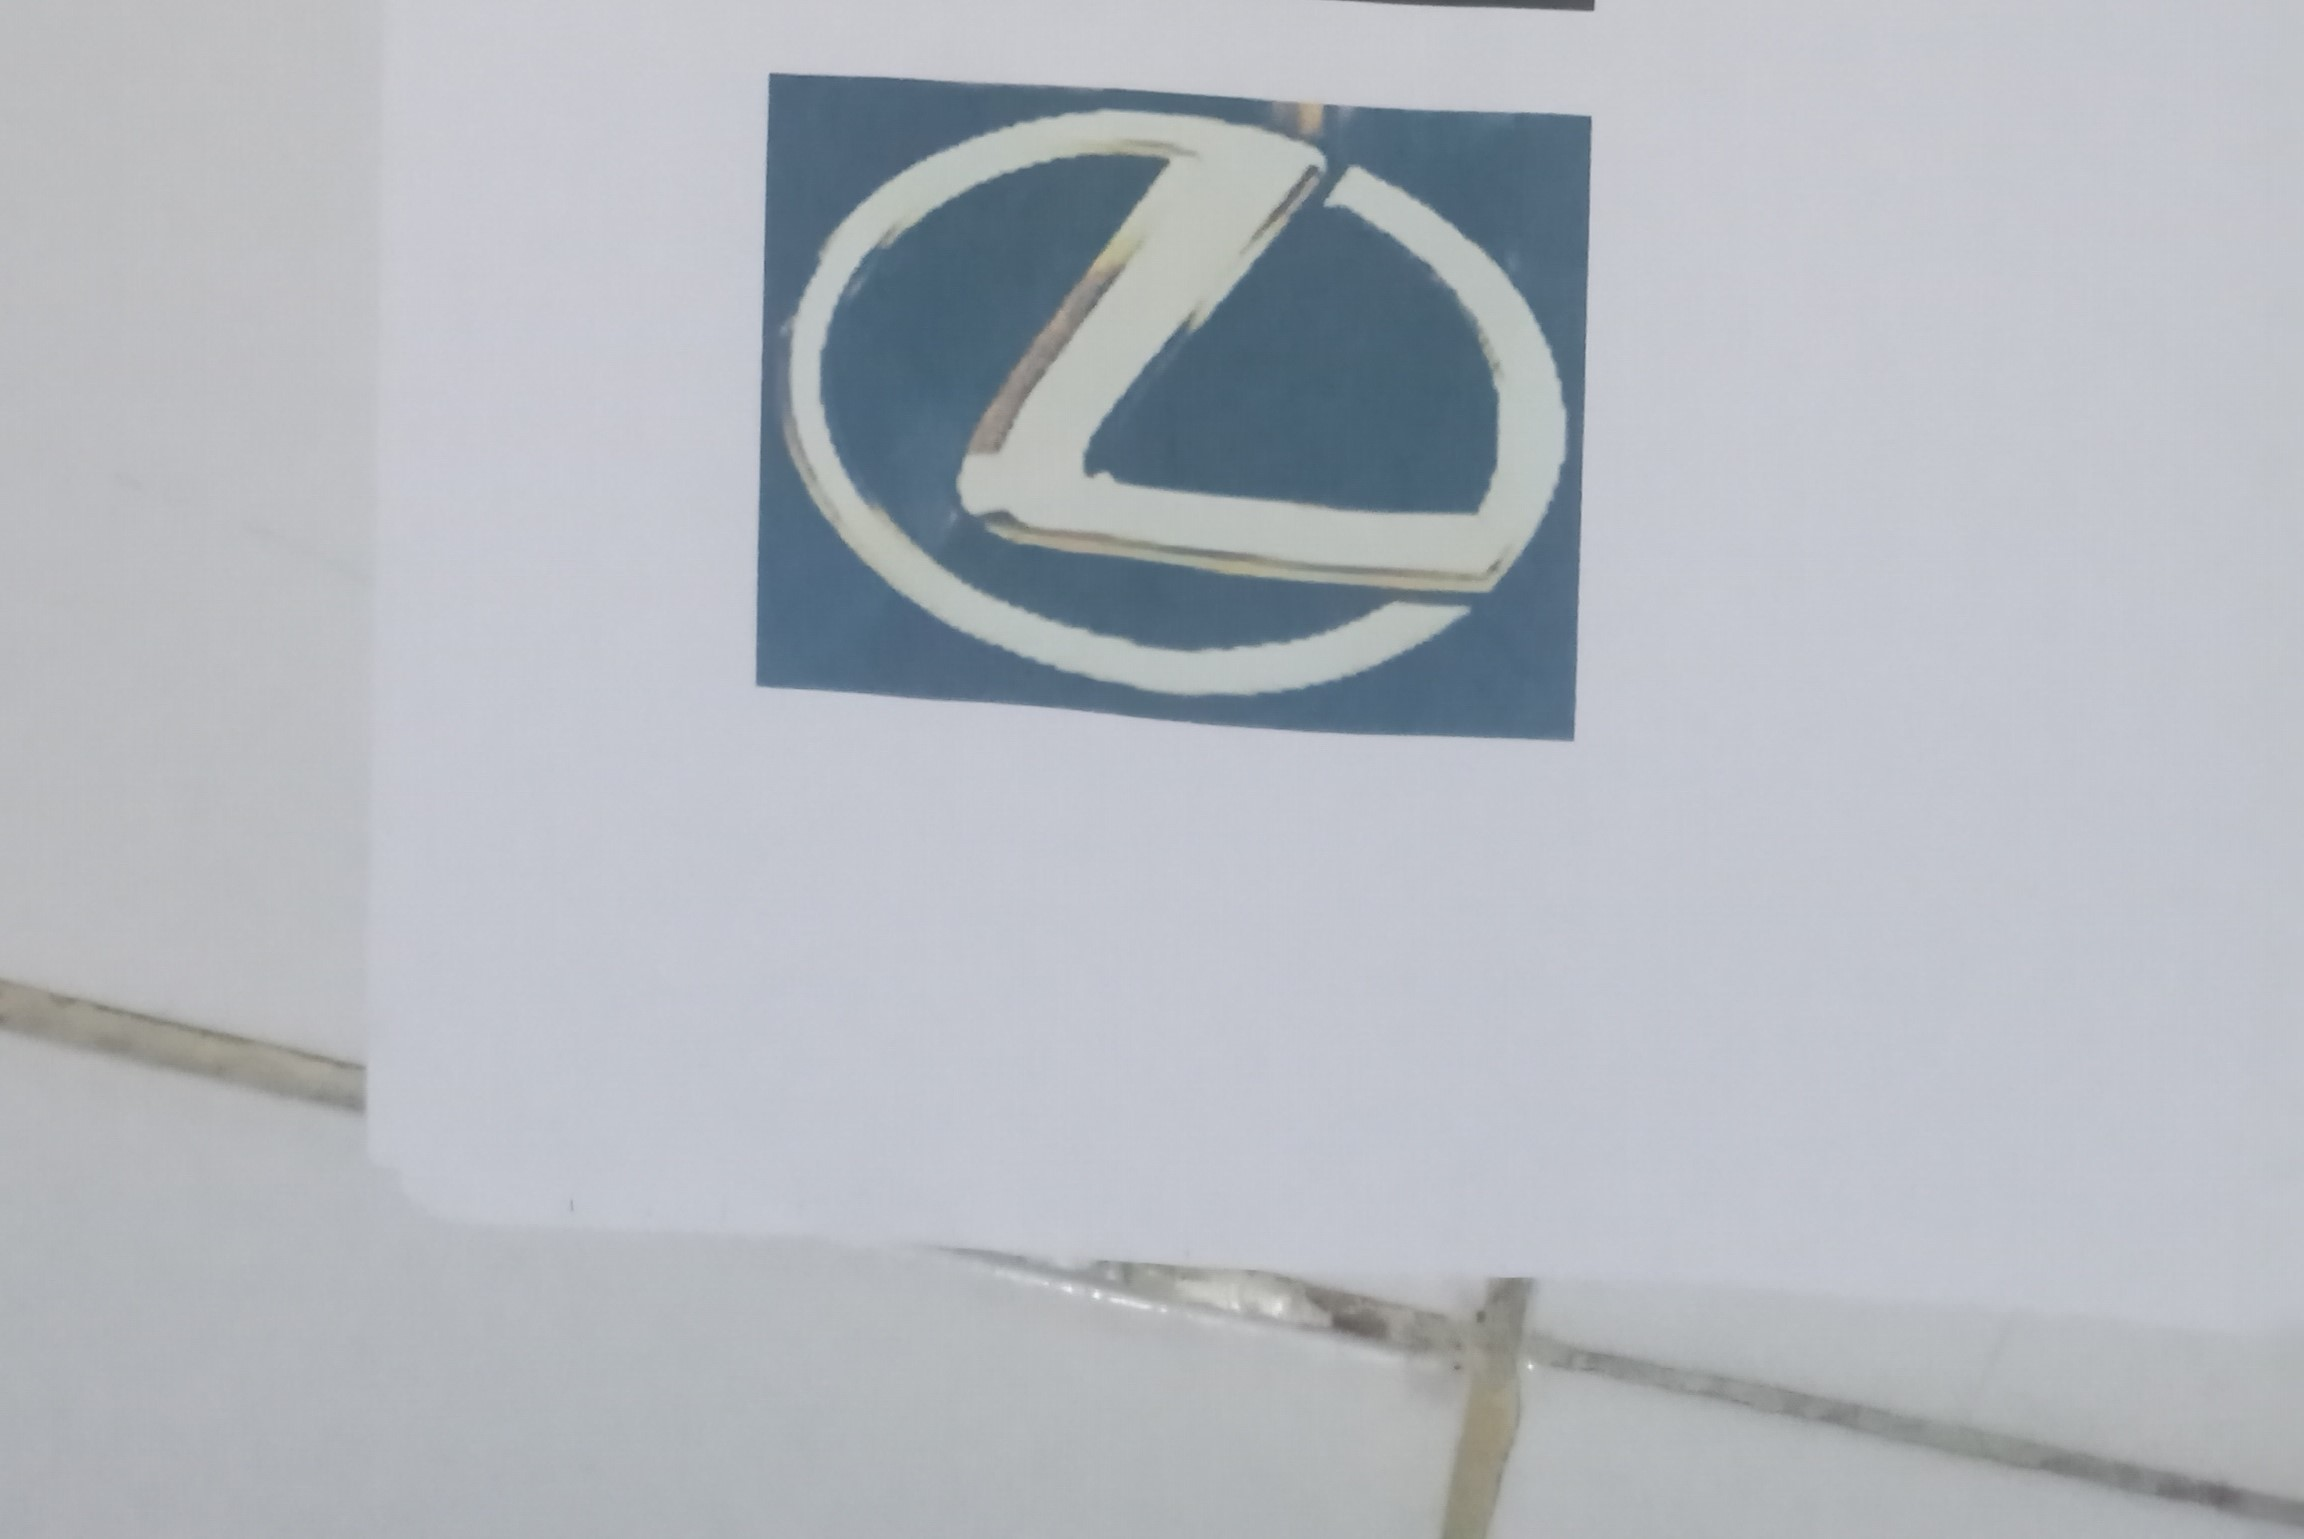Lexus: (766, 93, 1562, 720)
